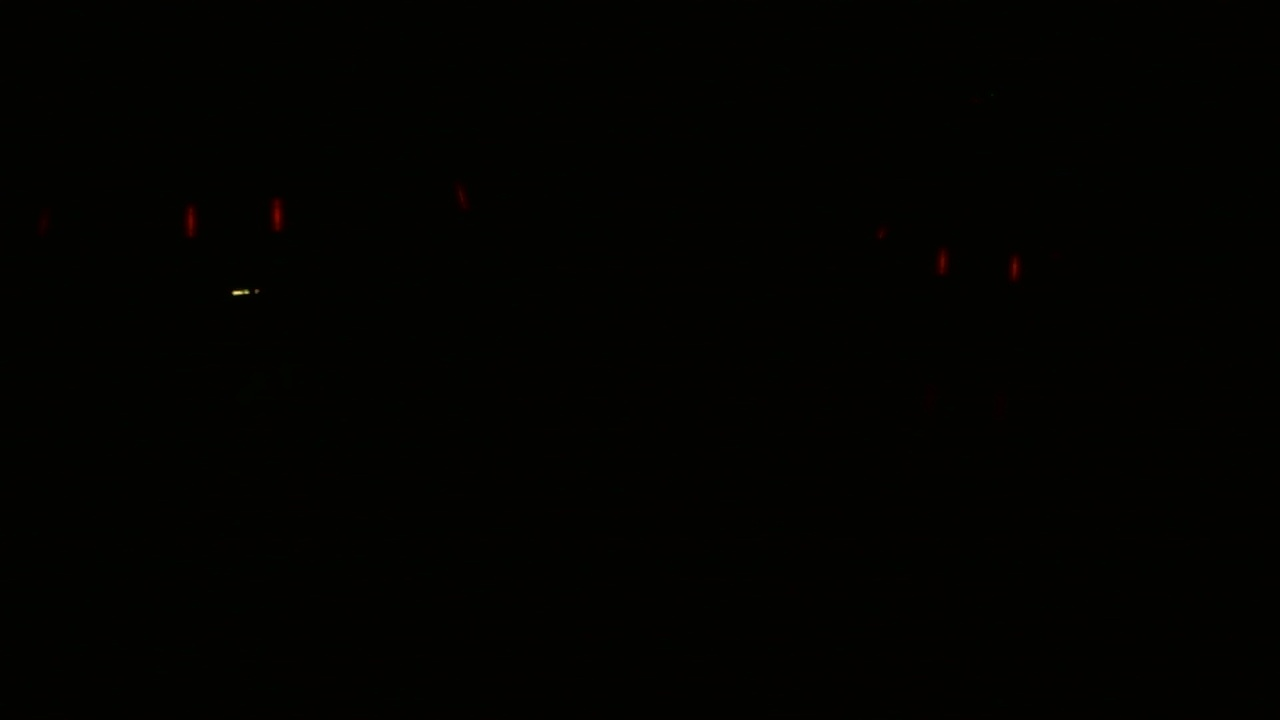pair1: (177, 199, 286, 242), (933, 248, 1024, 283)
